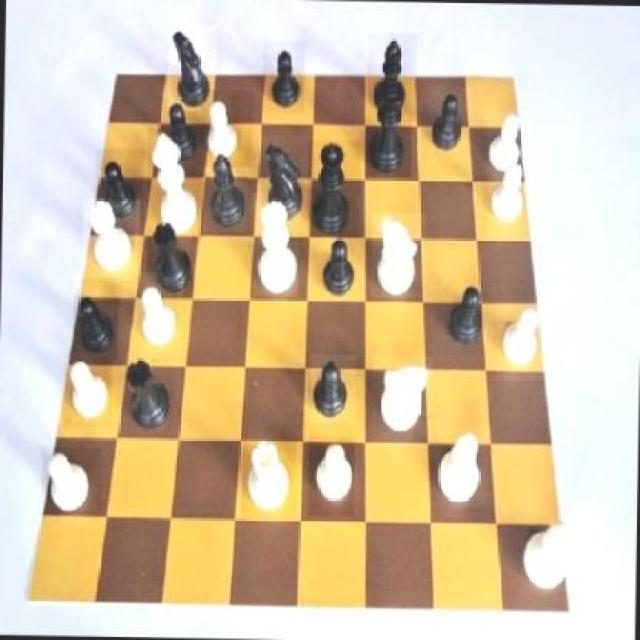bishop: (369, 34, 417, 120), (202, 144, 248, 233)
black-bishop: (366, 65, 414, 177)
black-king: (257, 136, 310, 232), (168, 24, 217, 111)
black-knight: (94, 150, 144, 226), (428, 86, 474, 166), (446, 277, 491, 356), (311, 354, 357, 423), (263, 41, 306, 114), (317, 236, 359, 310), (74, 295, 120, 360), (160, 97, 203, 166)
black-pawn: (308, 138, 360, 238)
black-queen: (120, 351, 179, 441), (146, 215, 196, 298)
black-rook: (516, 508, 578, 604), (434, 428, 488, 508)
white-bishop: (146, 128, 204, 238)
white-king: (371, 355, 432, 448), (370, 212, 424, 298)
white-knight: (40, 446, 102, 519), (496, 303, 550, 380), (200, 89, 253, 167), (132, 272, 182, 353), (64, 352, 114, 428), (308, 437, 354, 517), (486, 154, 526, 238), (485, 111, 532, 174)
white-pawn: (252, 192, 300, 296)
white-queen: (83, 198, 140, 280), (241, 440, 297, 520)
